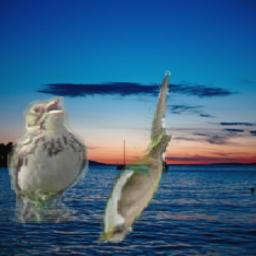Cuckoo: (92, 68, 172, 247)
Sparrow: (8, 96, 90, 223)
